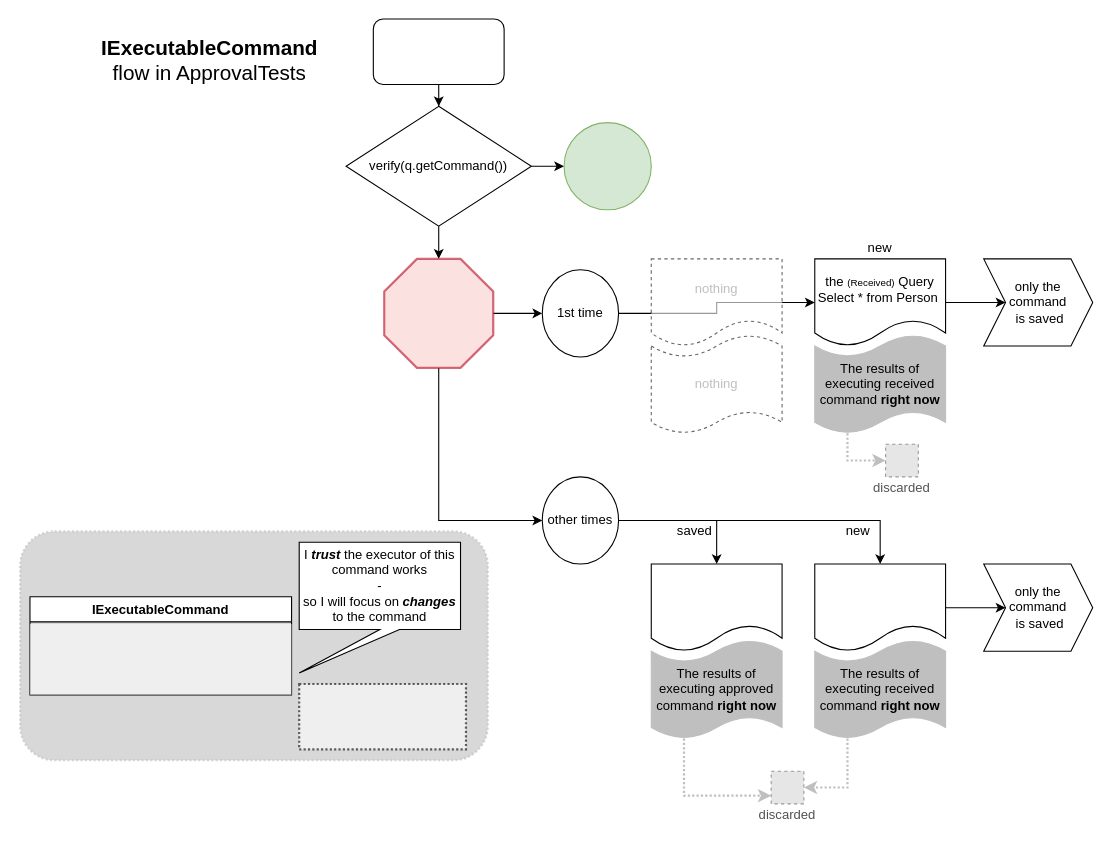
The diagram is 1112 pixels wide and 845 high, and some of its shapes have lost their labels. Grey dashed boxes stand in for pictures. Each missing label, with the centre of its shape:
"Examples of Executors: Sql Rest Compiler" belongs at point 382,716.
"FAILED - let's get more information" belongs at point 438,312.
"Run a test with IExecutableCommand" belongs at point 438,51.
"String getCommand() String executeCommand(String command)" belongs at point 160,658.
"Success!" belongs at point 607,166.
"the Approved Query Select * from Person" belongs at point 716,607.
"the Received Query Select p.* from Person p" belongs at point 880,607.
